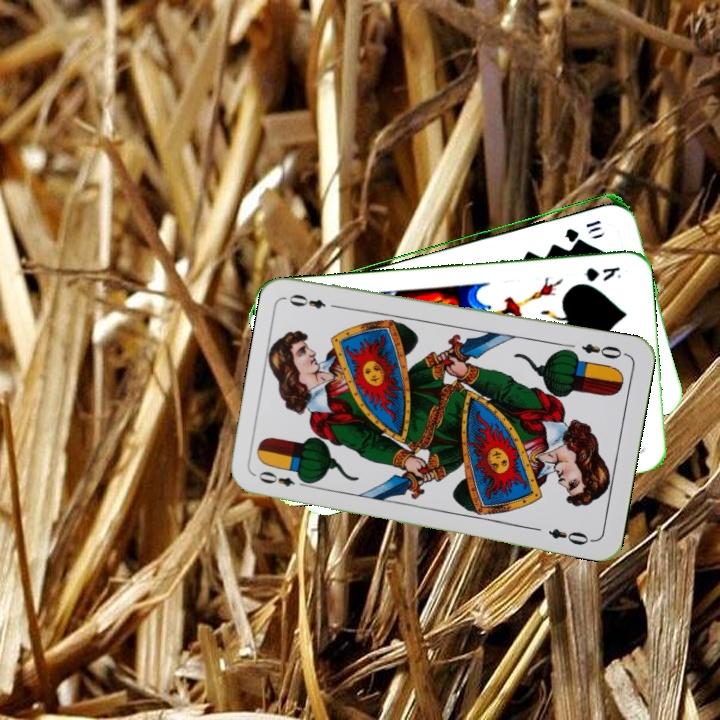EO: (254, 467, 312, 490), (577, 339, 629, 362)
G10: (560, 216, 603, 241)
GK: (581, 263, 624, 284)
